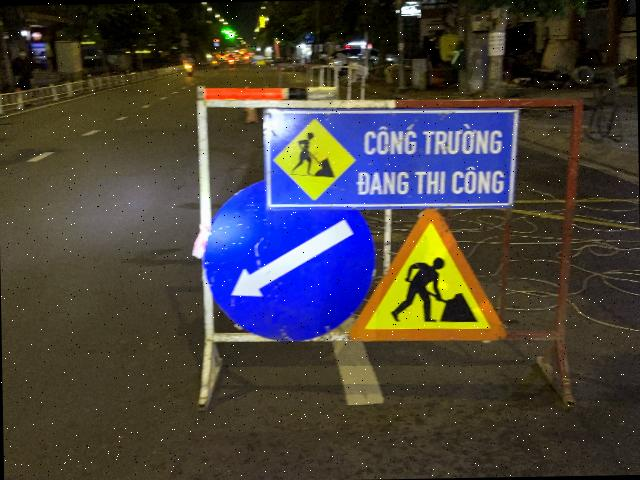cong-truong-dang-thi-cong: (351, 208, 506, 344)
huong-phai-di-vong-chuong-ngai-vat: (202, 178, 376, 342)
